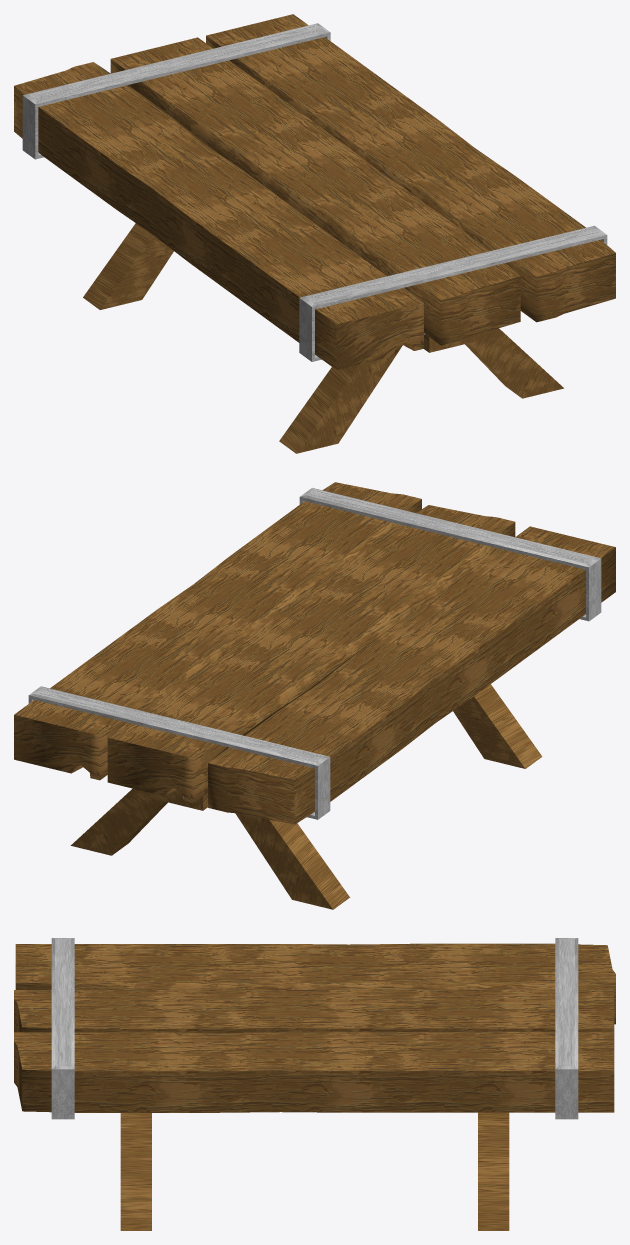
File: Table.fbx
3 renders of one model, top to bottom at view 1: azimuth 30°, elevation 25°; view 2: azimuth 150°, elevation 25°; view 3: azimuth 270°, elevation 25°, orthographic. The views are drawn at different scales.
Parts seen in each view (by area): view 1: Tisch; view 2: Tisch; view 3: Tisch.
Part boxes in pixels (left/top/right/bottom): Tisch: left=14, top=14, right=615, bottom=453; Tisch: left=14, top=482, right=615, bottom=909; Tisch: left=14, top=938, right=615, bottom=1230.
Bounding box in the file's own units: 1.06 × 0.6196 × 2.05.
